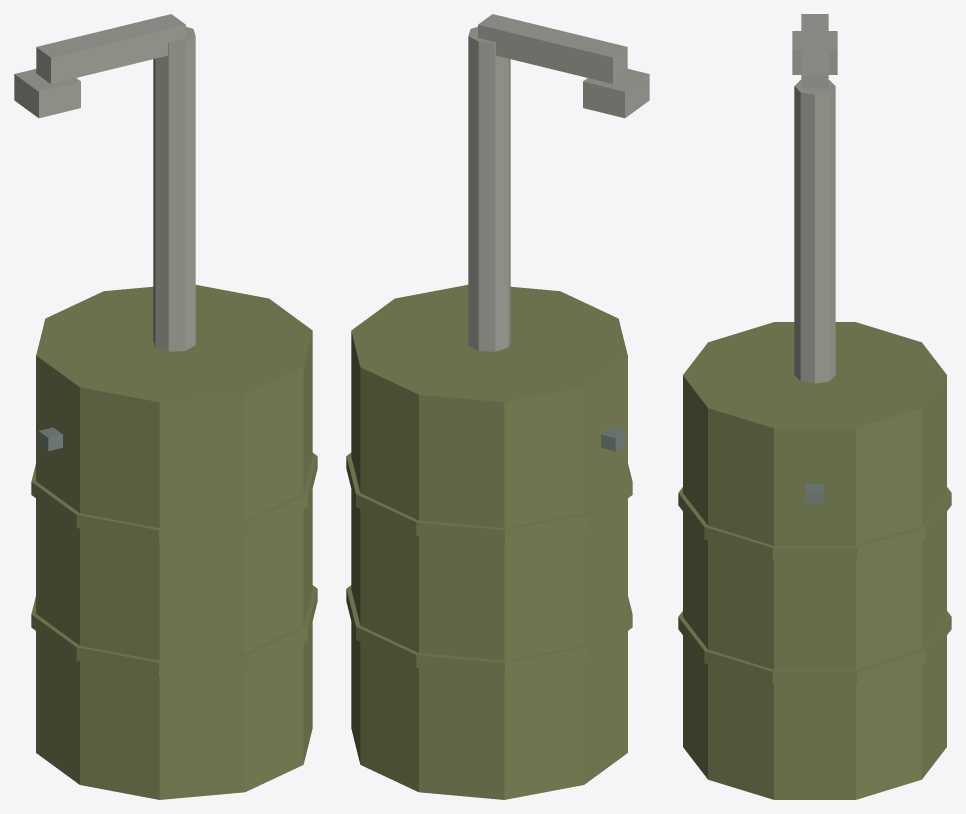
The model's file is SM_PosteFoco_v3_Bidon_LOD0.fbx.
3 views of the same model, side by side, from view 1: azimuth 30°, elevation 25°; view 2: azimuth 150°, elevation 25°; view 3: azimuth 270°, elevation 25° (orthographic). The views are drawn at different scales.
Visible parts, largest first — view 1: SM_poste_foco_v3_LOD0; view 2: SM_poste_foco_v3_LOD0; view 3: SM_poste_foco_v3_LOD0.
Boxes of the visible parts, x1,y1,x2,y2 form: SM_poste_foco_v3_LOD0: (14, 14, 317, 799); SM_poste_foco_v3_LOD0: (346, 14, 649, 799); SM_poste_foco_v3_LOD0: (678, 14, 951, 799).
Bounding box in the file's own units: 0.66 × 1.63 × 0.6.
